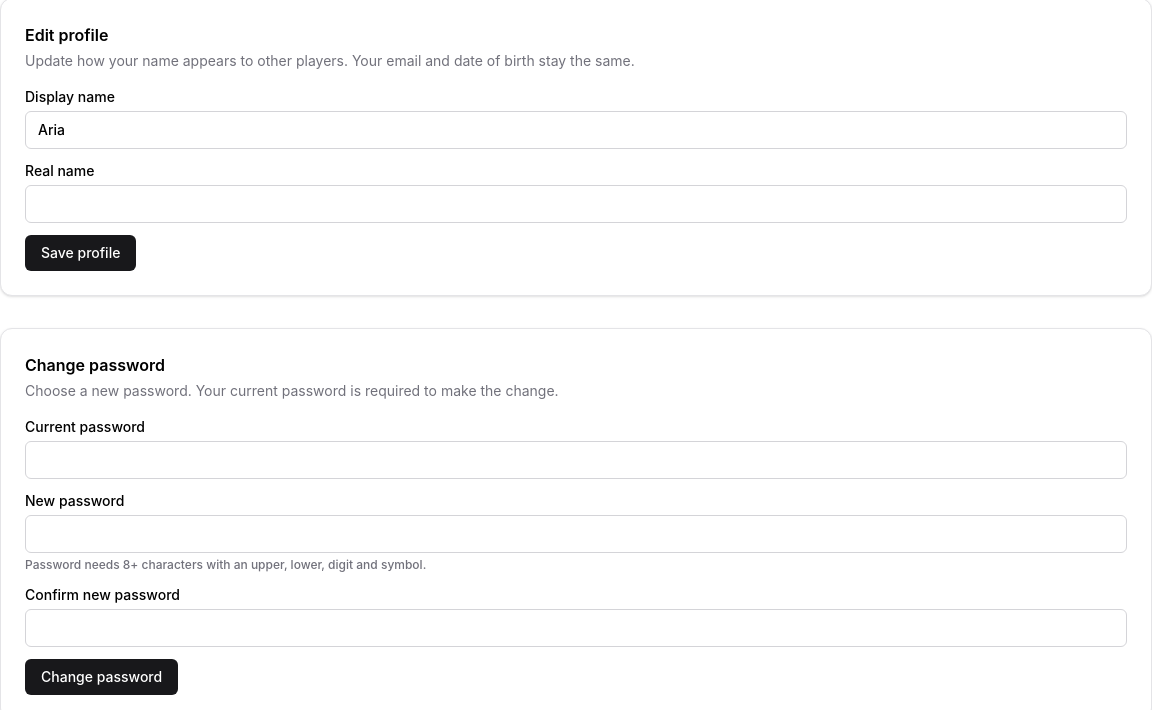
it: SettingsPage › changes the password and clears the fields
(page scrolled)
Type "OldPass1!" into the password field labelled "Current password" at (576, 460), box [25,441,1127,479]
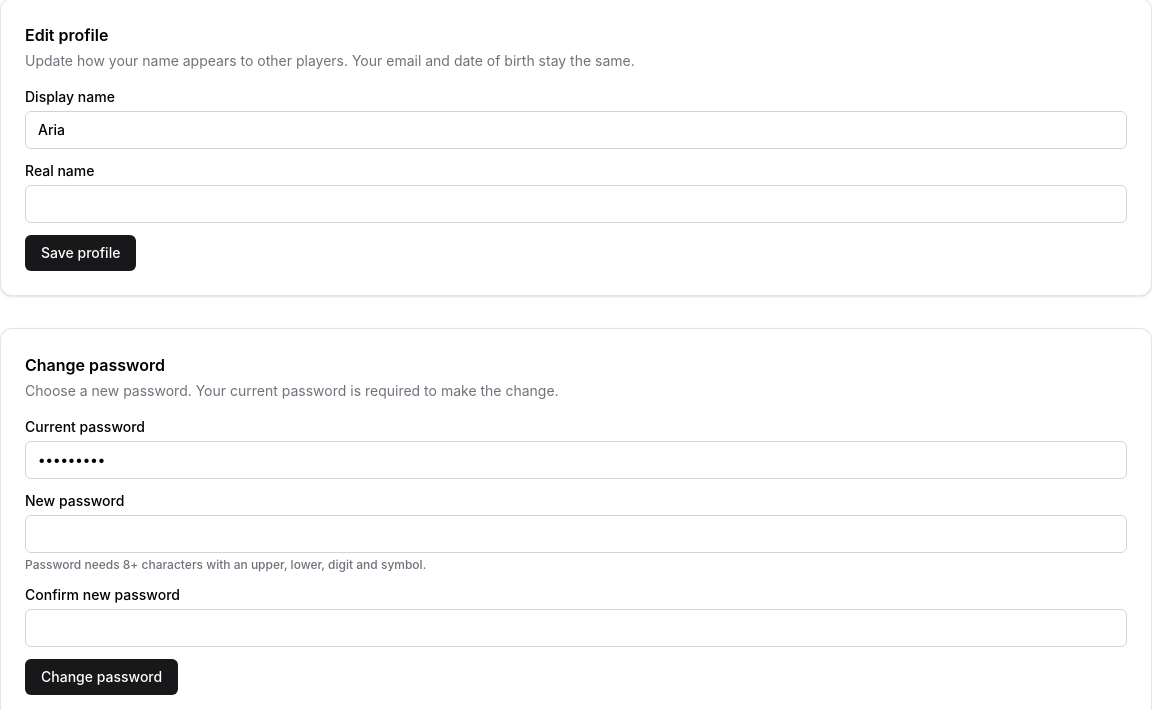
Type "NewPass2!" into the password field labelled "New password" at (576, 534), box [25,515,1127,553]
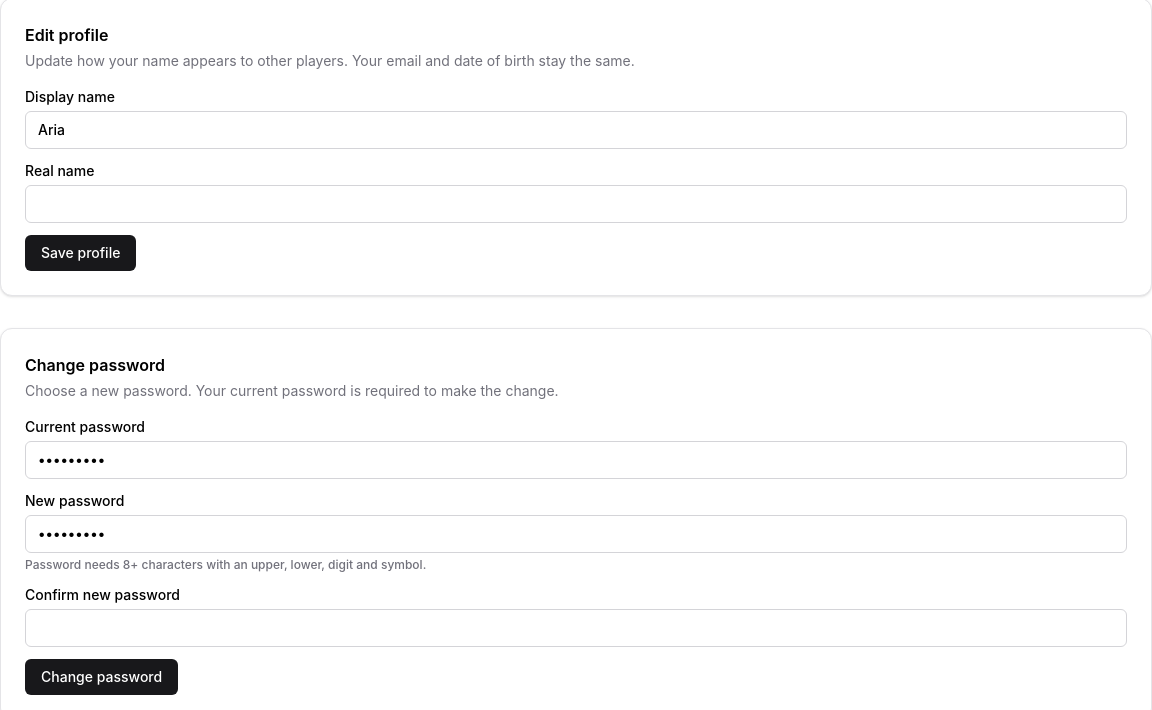
Type "NewPass2!" into the password field labelled "Confirm new password" at (576, 628), box [25,609,1127,647]
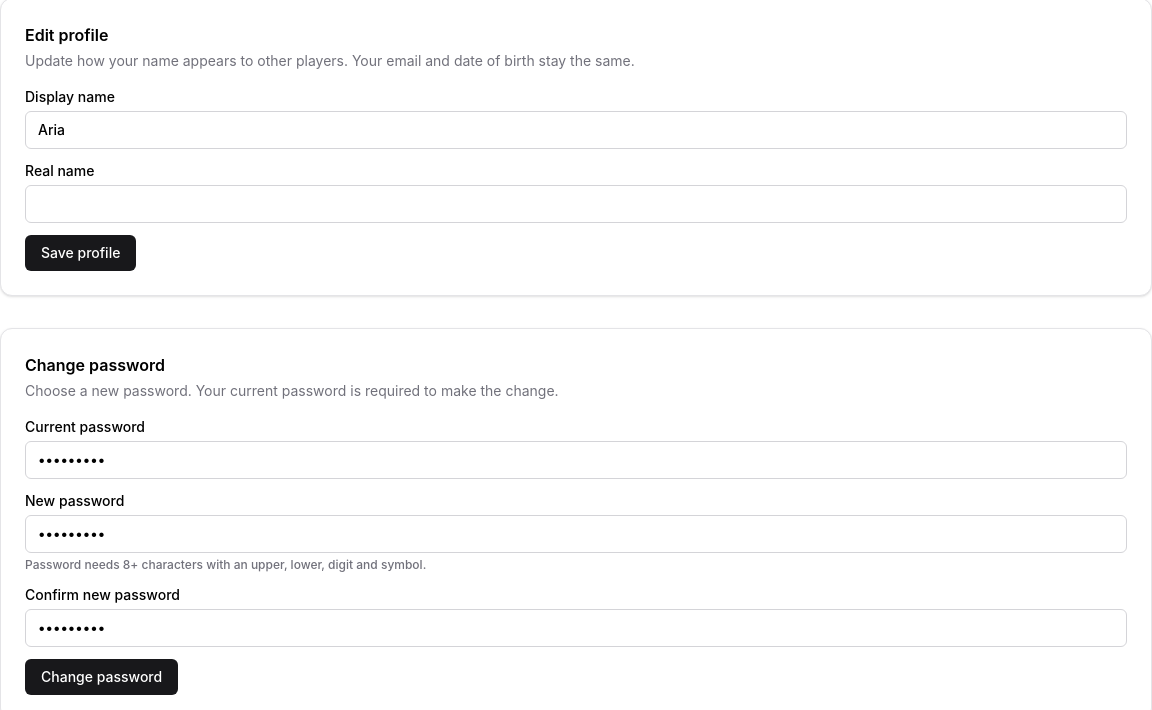
Click the button "Change password" at (102, 677), box [25,659,178,695]
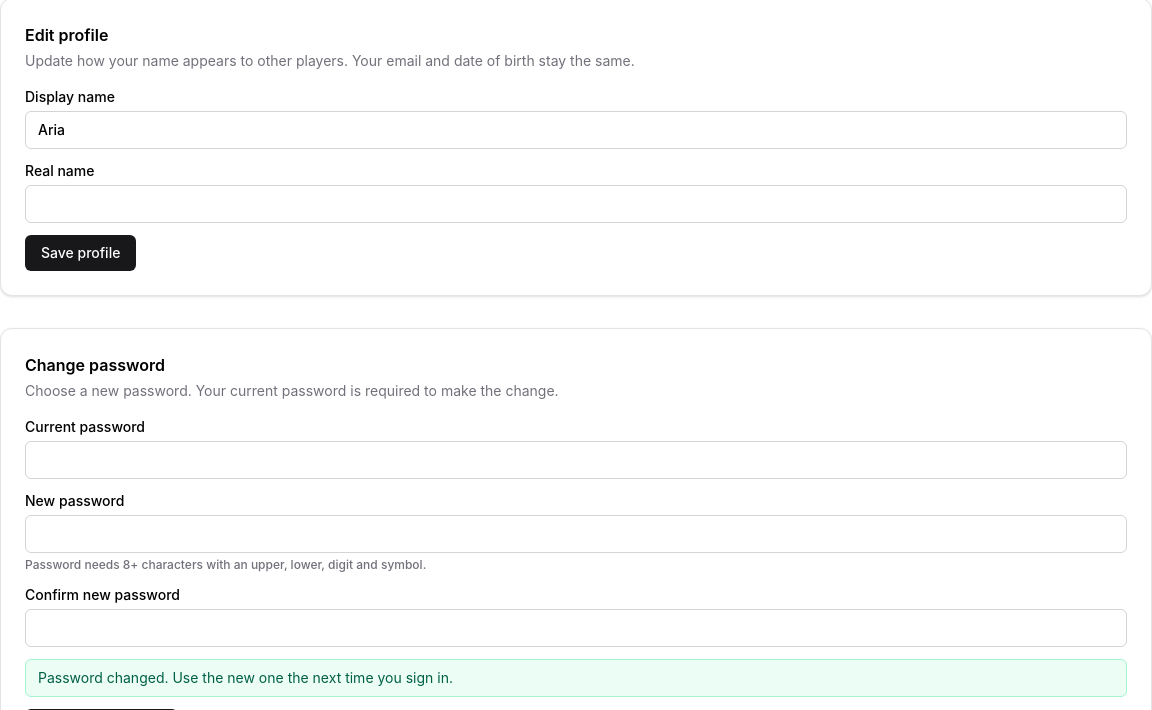
Now the text "Password changed. Use the new one the next time you sign in." is shown, box [25,659,1127,697]
Now the password field labelled "Current password" is empty, box [25,441,1127,479]
Now the password field labelled "New password" is empty, box [25,515,1127,553]
